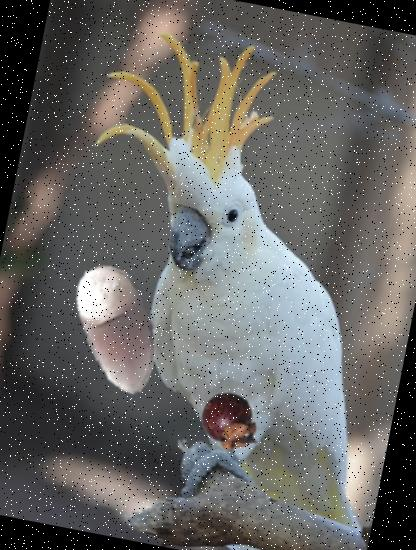Hazelnut: (40, 250, 196, 407)
Mangostan: (192, 385, 266, 459)
